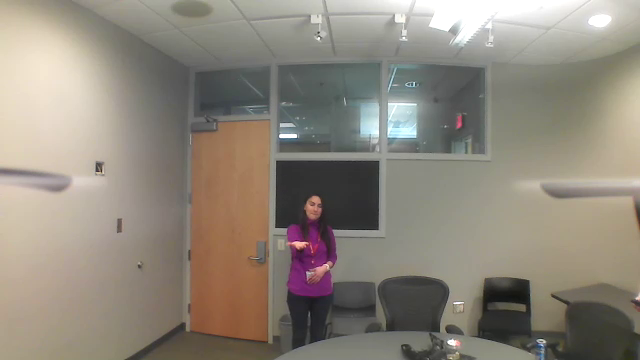land: (280, 237, 311, 254)
